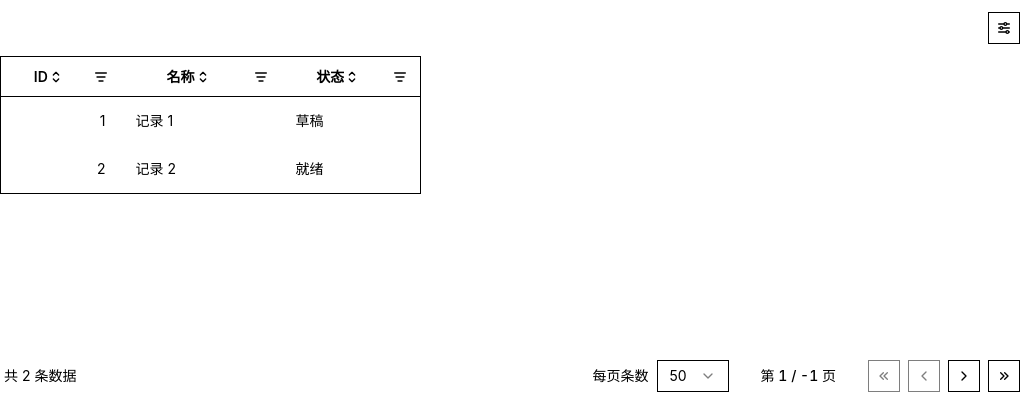
Test: DataTable cell selection › starts a text draft from a Chinese IME completion printable key without committing
Click the cell "记录 1".
click(154, 120)  # box x1=120 y1=97 x2=280 y2=145
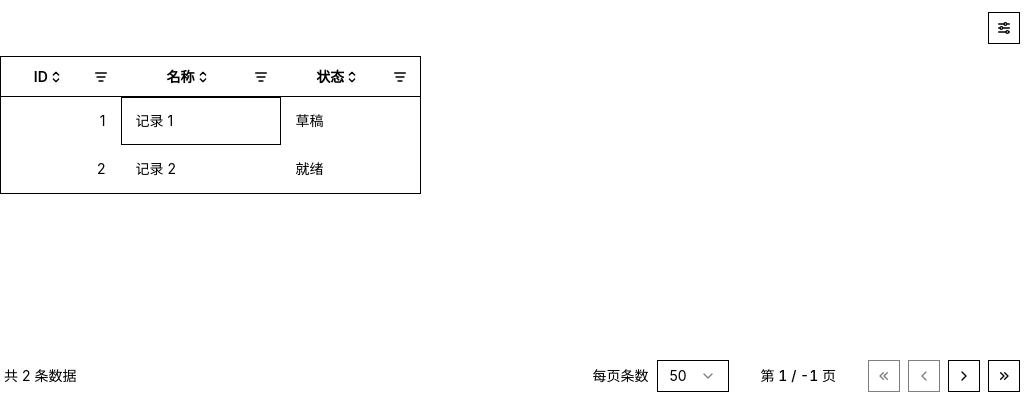
Press Process in the cell "记录 1", box x1=120 y1=97 x2=280 y2=145
Press 中 in the cell "记录 1", box x1=120 y1=97 x2=280 y2=145
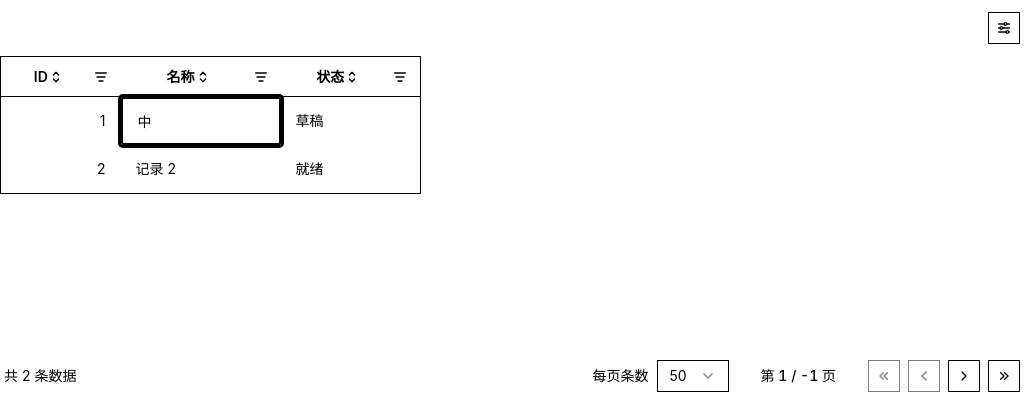
Expected: the field named "编辑名称" holds "中", x1=120 y1=97 x2=280 y2=145
